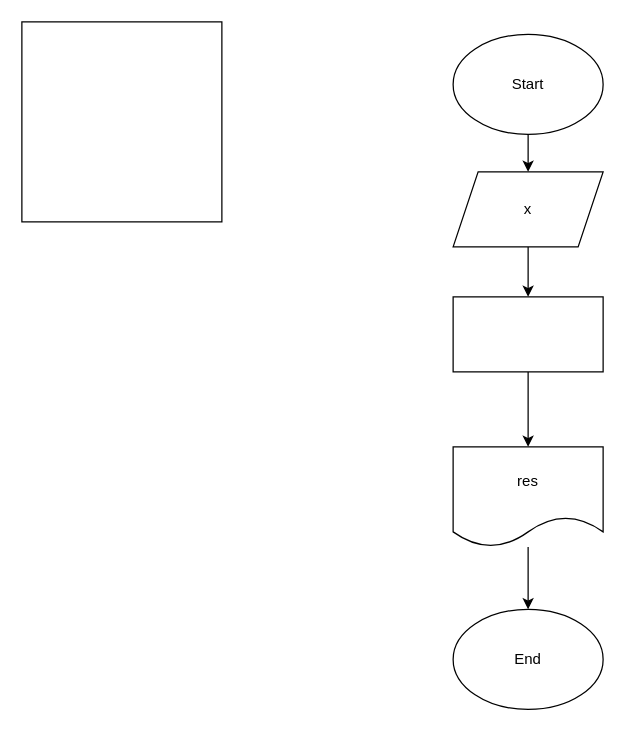
The diagram is 625 pixels wide and 731 high, and some of its shapes have lost their labels. The centre of each missing label's shape, as x and y in pixels:
"4. Verilmiş X ədədinin kvadratını tapan alqoritm" goes at pixel 121 121.
"res = x * x" goes at pixel 527 334.
